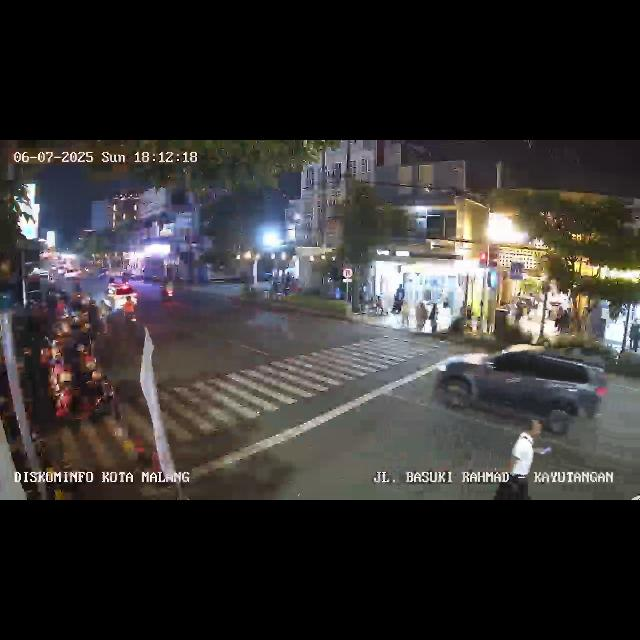car: (432, 345, 608, 439), (104, 282, 136, 308)
motorcycle: (122, 295, 138, 327), (160, 278, 176, 304)
person: (492, 419, 544, 497), (414, 300, 428, 336), (428, 302, 438, 336), (392, 284, 403, 314), (552, 304, 562, 336), (402, 296, 412, 326), (630, 318, 638, 354)
